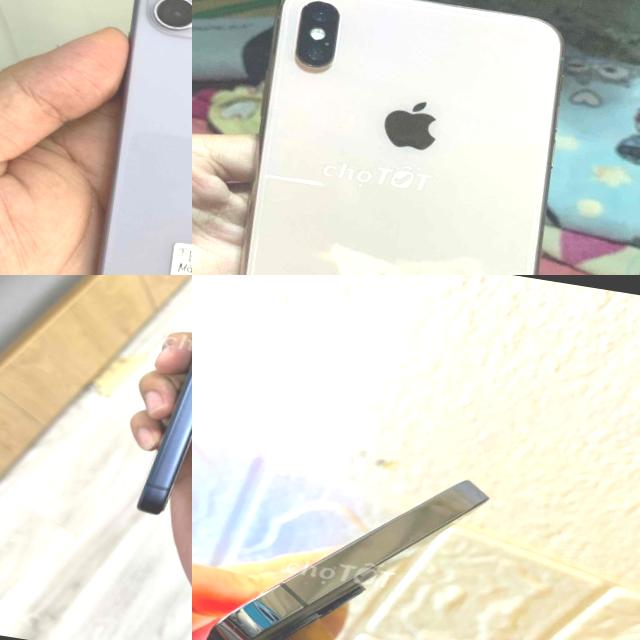gen_11: (60, 0, 192, 275)
gen_12_13: (192, 422, 503, 640)
gen_17: (123, 275, 192, 531)
gen_x_xs: (198, 0, 590, 275)
